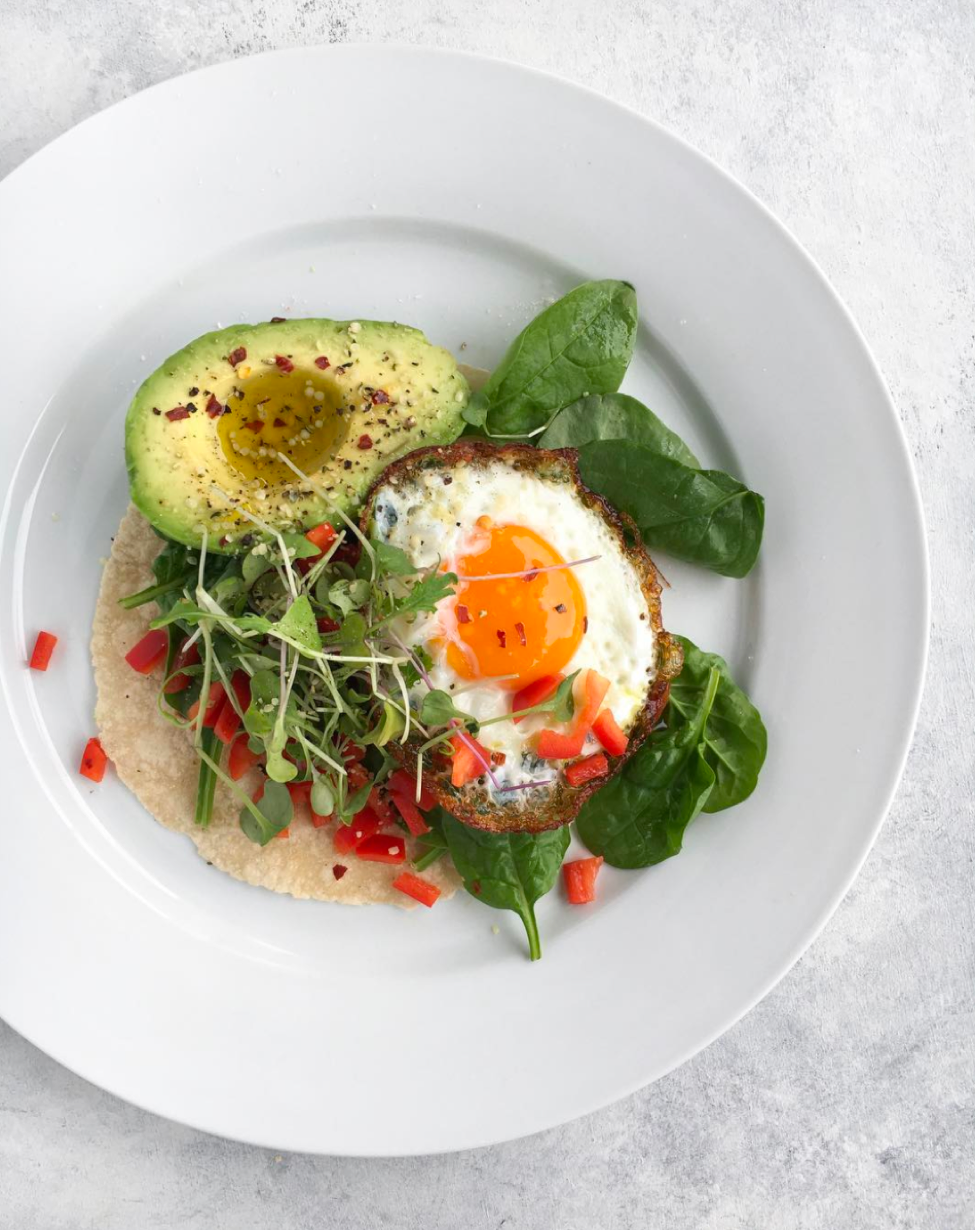chopped lettuce: (494, 309, 759, 564), (198, 561, 360, 789)
fried egg: (393, 481, 609, 761)
